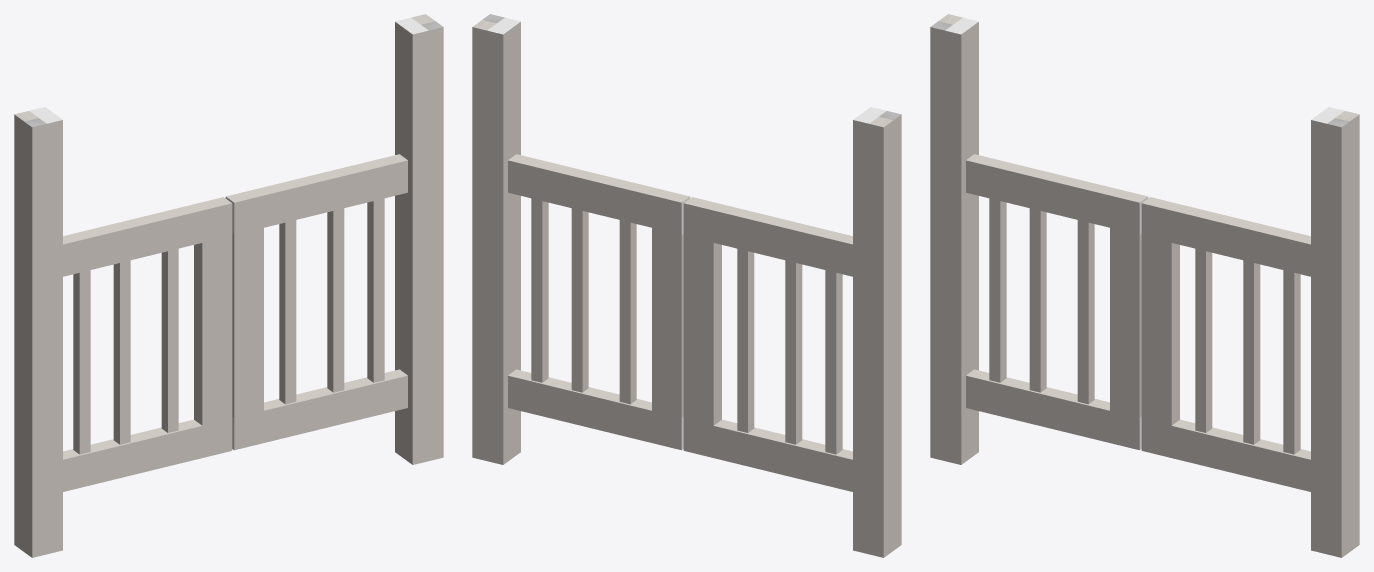
Rendered from School_Gate.fbx.
3 views of the same model, side by side, from view 1: azimuth 30°, elevation 25°; view 2: azimuth 150°, elevation 25°; view 3: azimuth 330°, elevation 25° (orthographic).
Parts seen in each view (by area): view 1: Cube.002; view 2: Cube.002; view 3: Cube.002.
Part boxes in pixels (x1=…): Cube.002: x1=14, y1=14, x2=443, y2=557; Cube.002: x1=472, y1=14, x2=901, y2=557; Cube.002: x1=930, y1=14, x2=1359, y2=557.
Size of the model in its own units: 400 by 400 by 30.
